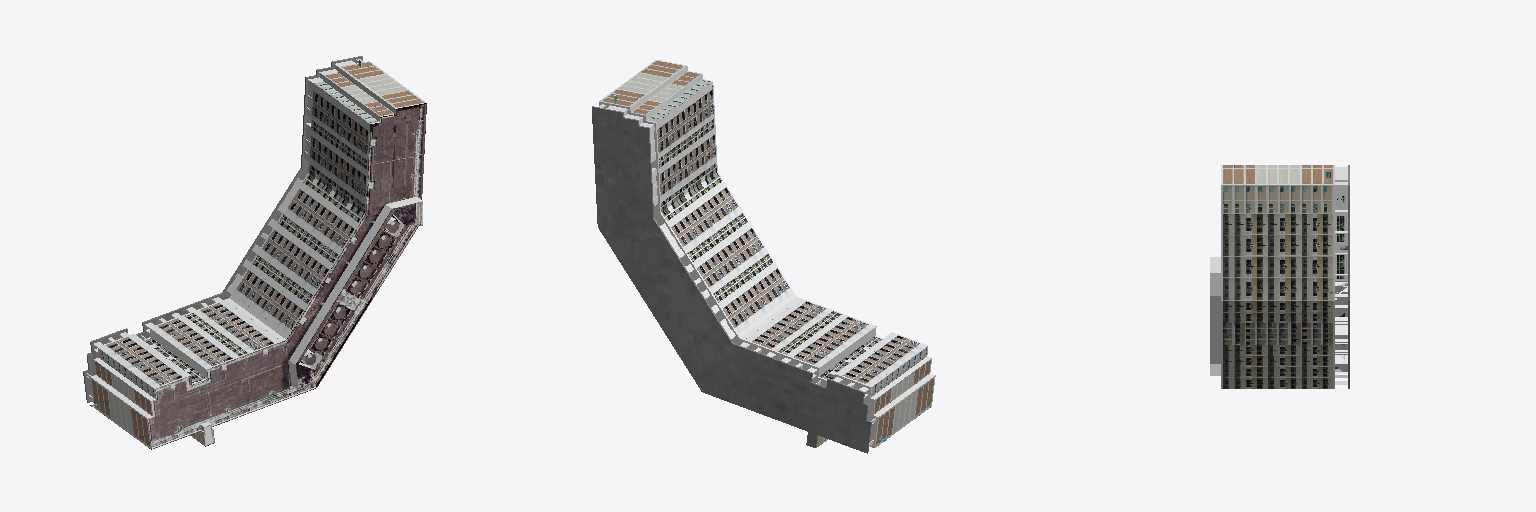
3 renders of one model, left to right at view 1: azimuth 30°, elevation 25°; view 2: azimuth 150°, elevation 25°; view 3: azimuth 270°, elevation 25°, orthographic.
Parts seen in each view (by area): view 1: polygon.839; view 2: polygon.839; view 3: polygon.839.
Part boxes in pixels (bbox=[...]): polygon.839: bbox=[83, 56, 426, 449]; polygon.839: bbox=[592, 60, 935, 453]; polygon.839: bbox=[1210, 165, 1349, 388].
Bounding box in the file's own units: 81.61 × 80.98 × 34.93.
1 materials, 1 textured.